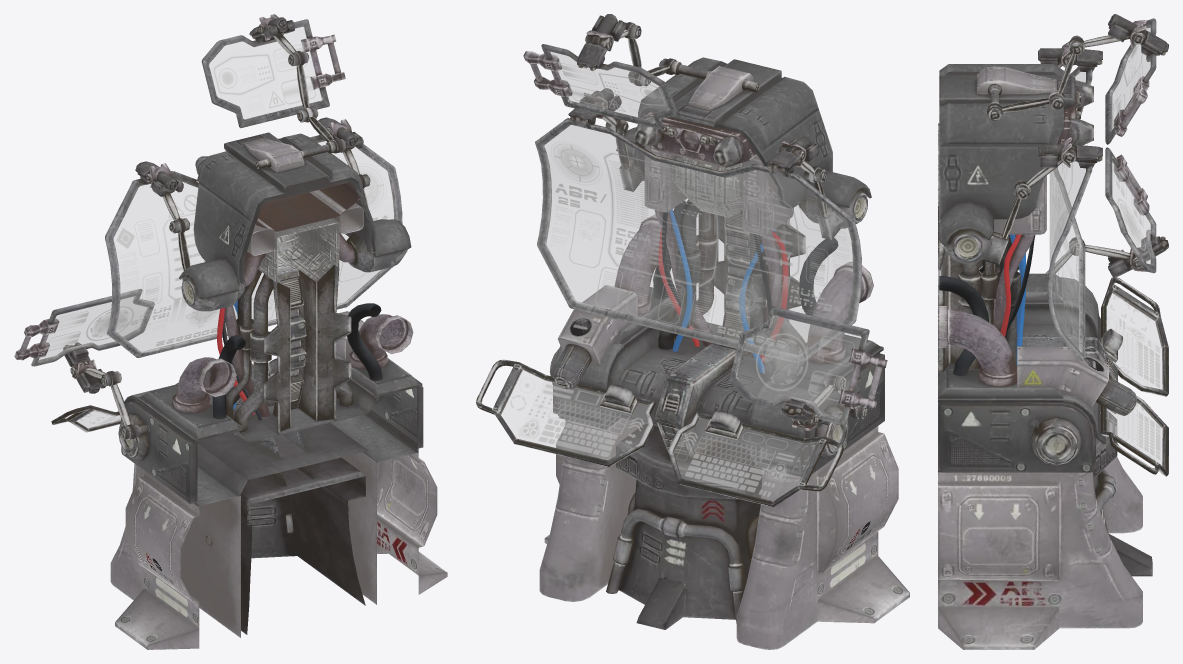
File: Computer-transformed.glb
The picture shows the model from 3 angles, left to right: view 1: azimuth 30°, elevation 25°; view 2: azimuth 150°, elevation 25°; view 3: azimuth 270°, elevation 25°; orthographic projection. The views are drawn at different scales.
Parts seen in each view (by area): view 1: defaultMaterial (×2); view 2: defaultMaterial (×2); view 3: defaultMaterial (×2).
Boxes of the visible parts, x1=… form: defaultMaterial (×2): x1=14, y1=14, x2=447, y2=649; defaultMaterial (×2): x1=476, y1=14, x2=909, y2=649; defaultMaterial (×2): x1=938, y1=14, x2=1168, y2=649.
Size of the model in its own units: 2.1 by 2.98 by 1.07.
Materials: 2 (2 with a texture image).
